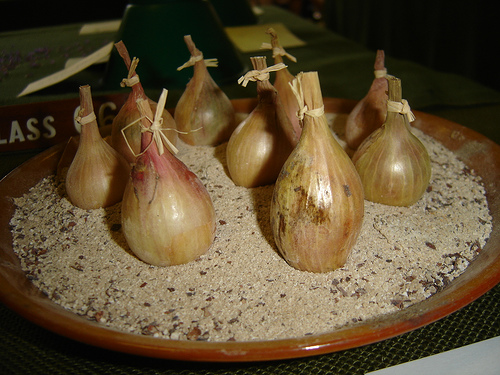onion: (270, 71, 366, 273), (122, 89, 215, 267), (367, 73, 431, 206)
